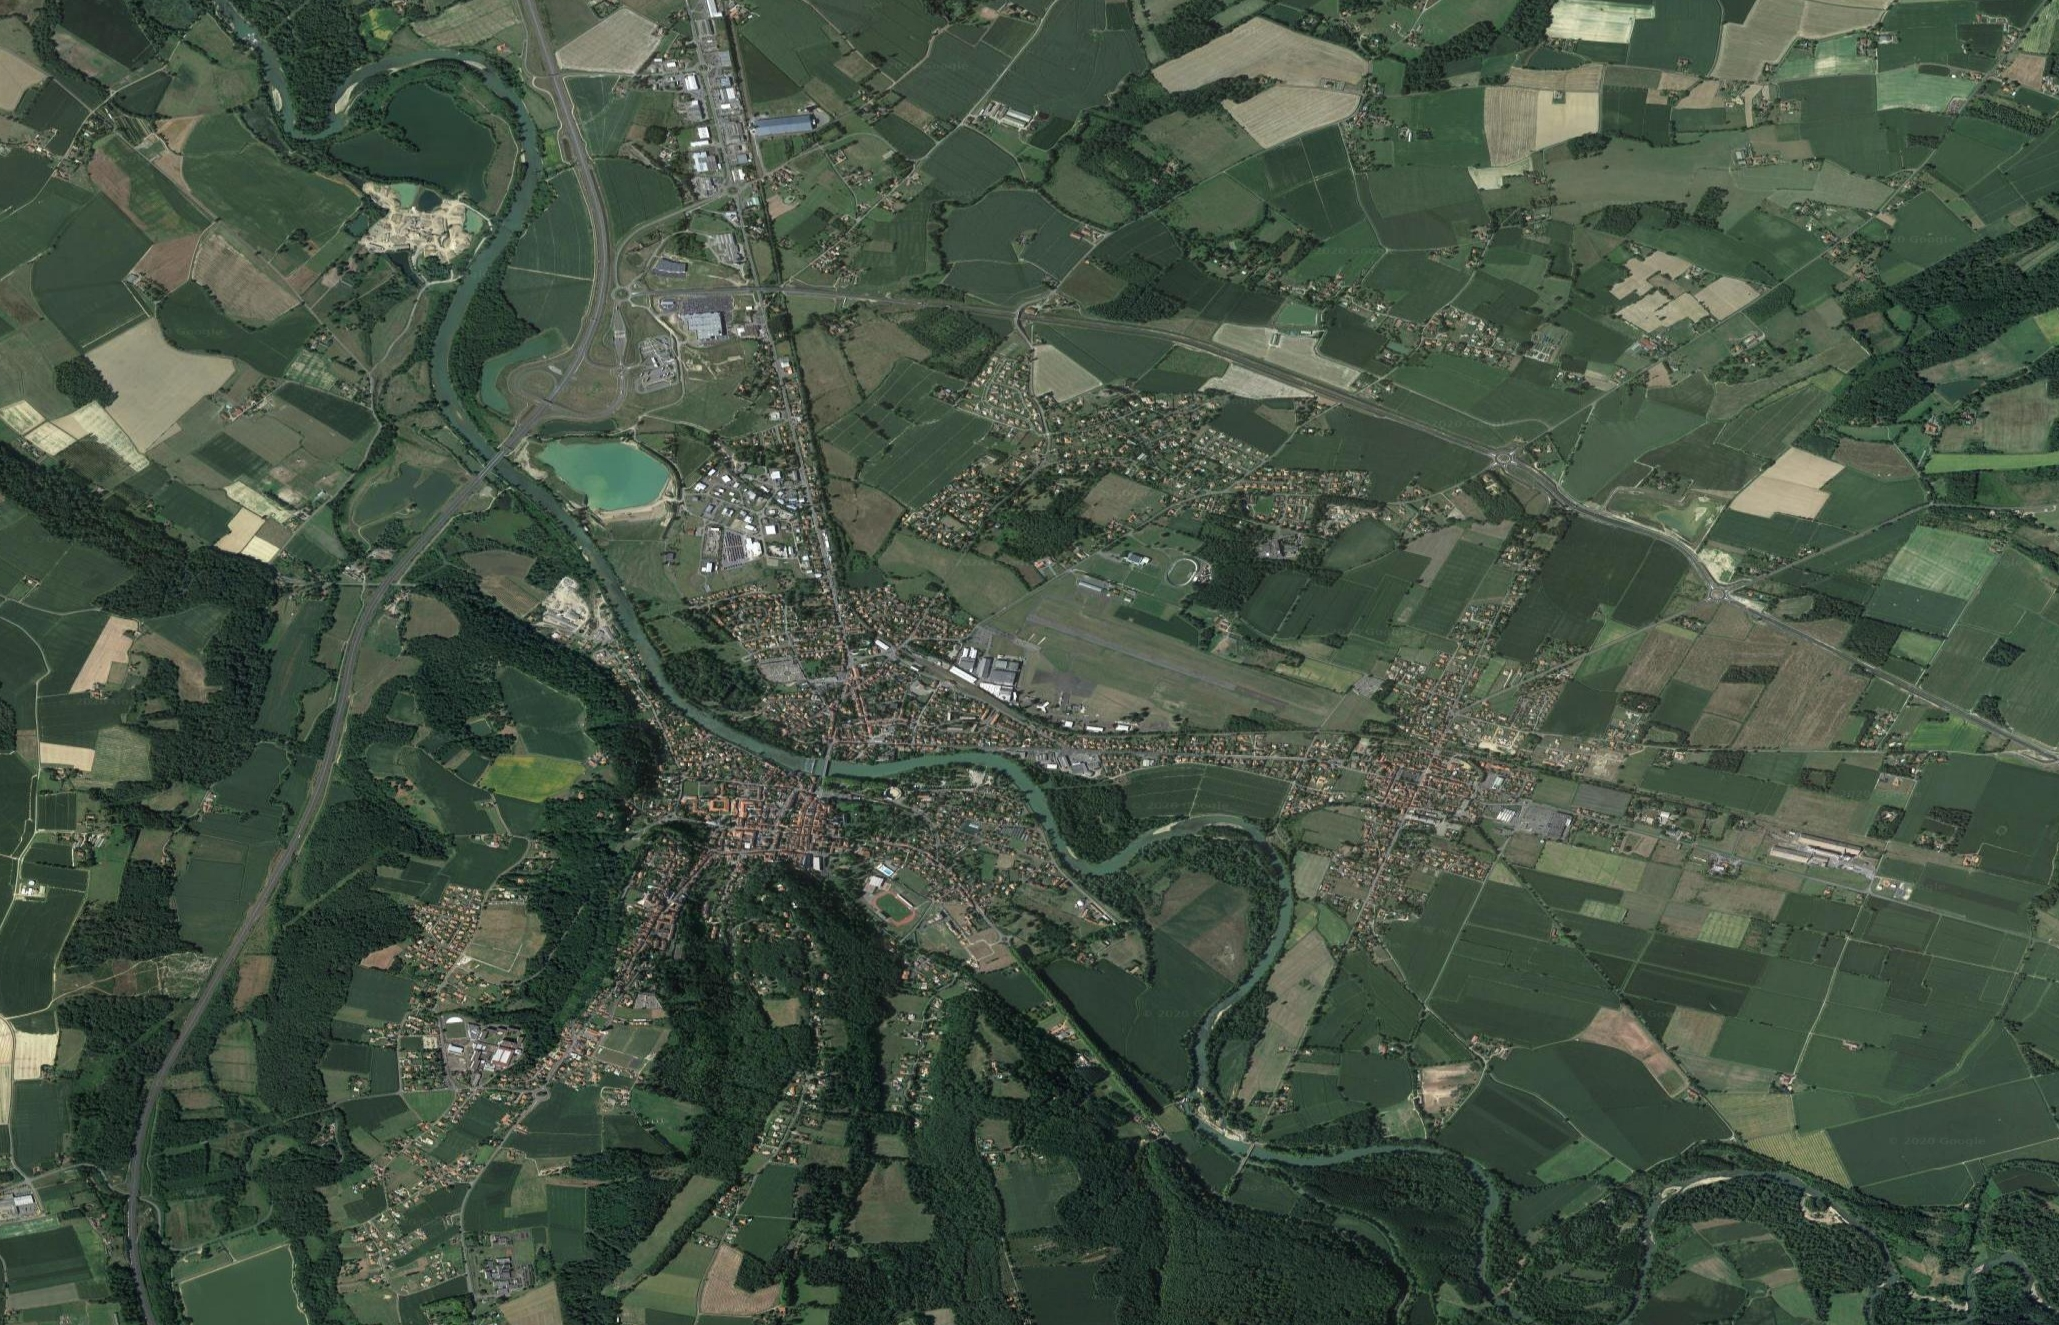airport: (1017, 585, 1292, 731)
motorway: (459, 374, 579, 485), (372, 483, 480, 590), (555, 227, 614, 380), (242, 819, 320, 923), (552, 92, 608, 233), (185, 923, 258, 1025), (135, 1026, 197, 1137), (341, 587, 395, 701), (302, 702, 353, 821), (522, 2, 570, 95), (126, 1134, 146, 1256), (126, 1256, 156, 1325)
